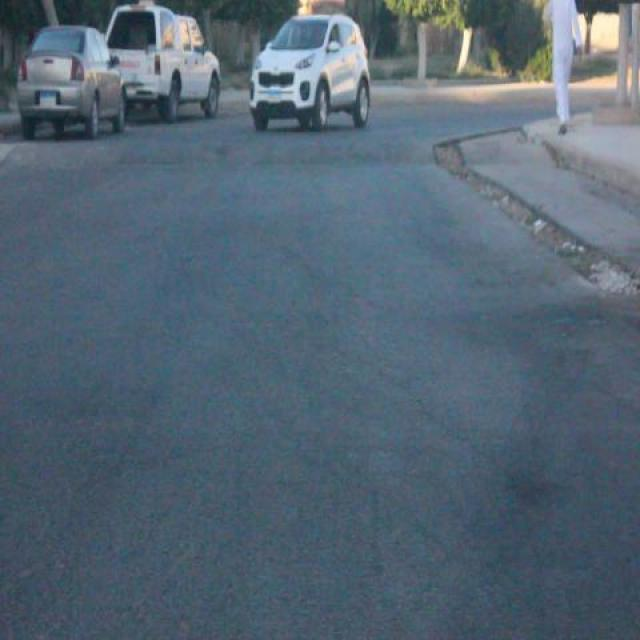Unmarked Bump: (0, 135, 443, 178)
